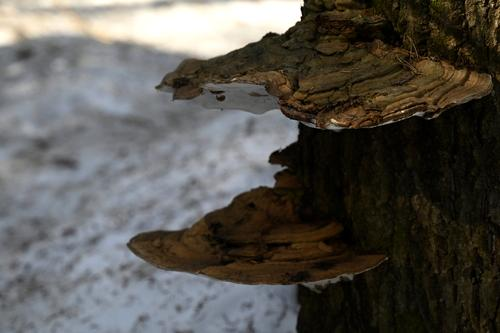Ganoderma - Fruit Body: (164, 24, 499, 130), (123, 183, 382, 293)
